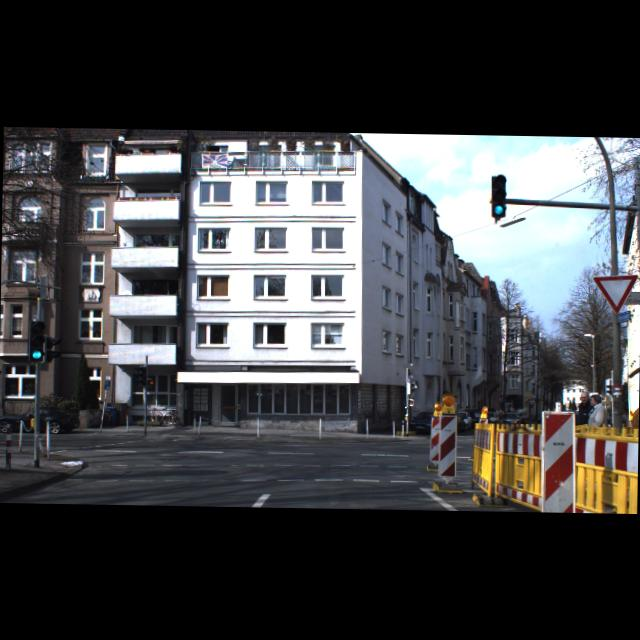other: (591, 272, 638, 314)
